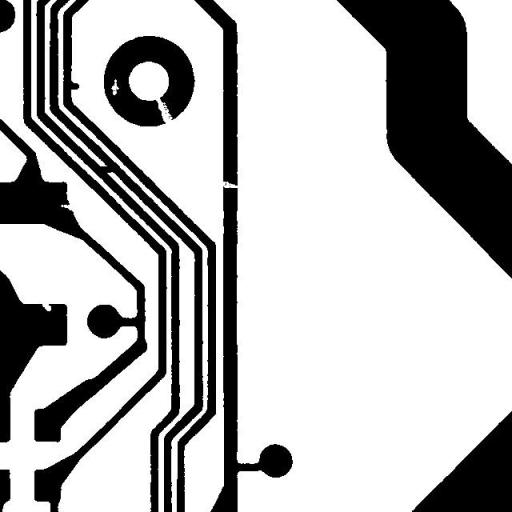mousebite: (53, 197, 81, 218), (34, 294, 58, 318)
open: (141, 85, 182, 133), (213, 174, 247, 196)
pin-hole: (104, 72, 126, 102)
short: (91, 158, 120, 180)
spur: (58, 72, 86, 97)
